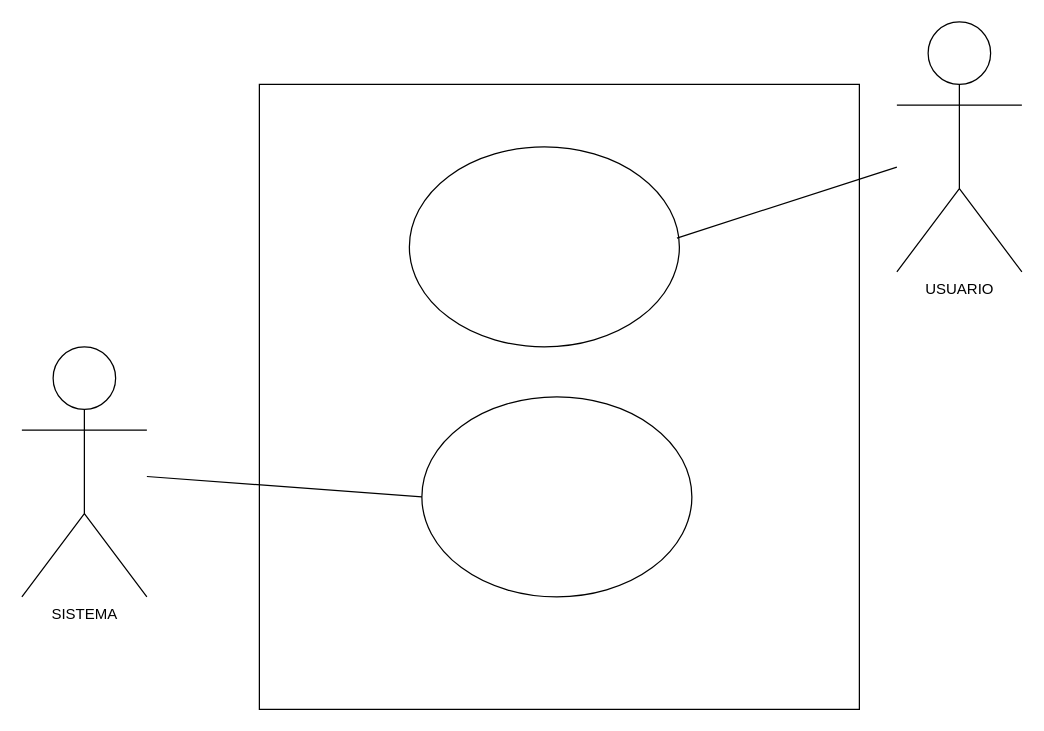
Image size: 1044x731. Some labels were removed from this diagram. The centre of each missing label's shape, as x and y in pixels:
CONFIRMA OPERAÇÃO E RETORNO DAS INFORMAÇÕES: the point at 556,496
PROCESSO CRUD DE VOO: the point at 543,246
